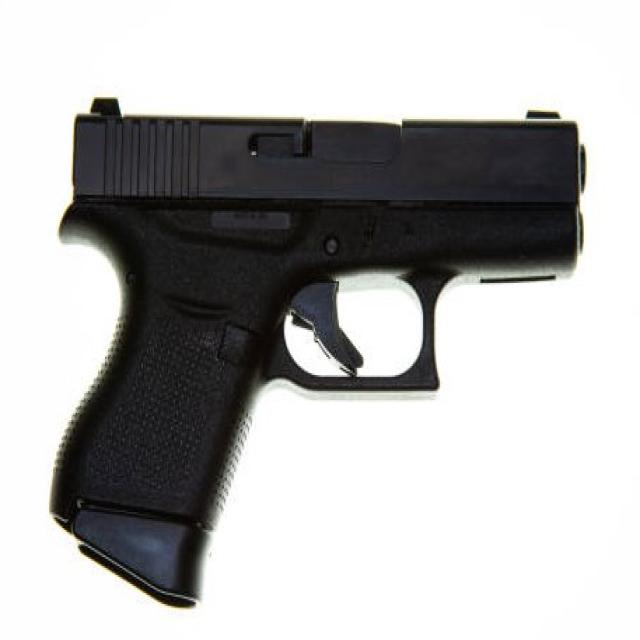pistol: (36, 87, 591, 620)
